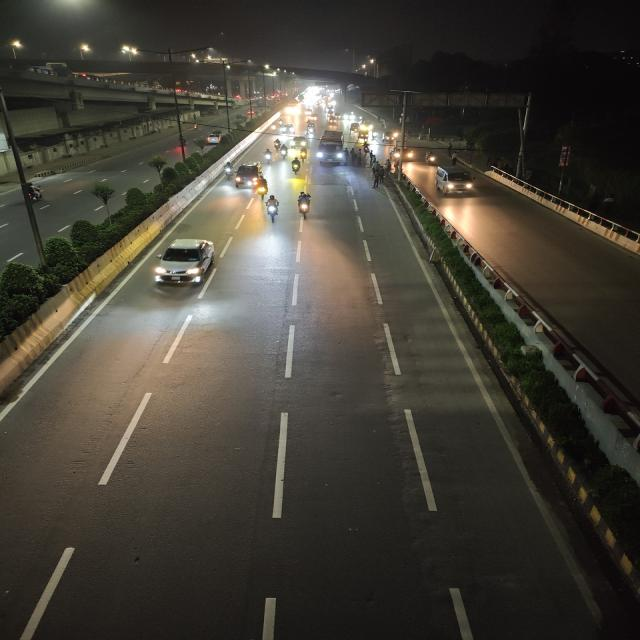bus: (315, 130, 349, 168)
car: (148, 235, 221, 297), (432, 164, 477, 198), (236, 162, 263, 188), (390, 146, 416, 162), (290, 134, 309, 150), (282, 124, 296, 134)
cng: (304, 121, 317, 135), (327, 117, 339, 128), (350, 122, 360, 134)
motorcycle: (15, 178, 48, 206), (260, 192, 282, 224), (293, 191, 316, 220), (422, 150, 438, 167), (290, 157, 303, 176), (262, 148, 277, 164), (276, 140, 288, 158), (223, 162, 235, 180), (273, 137, 286, 153), (296, 146, 308, 158)
pedestrian: (369, 162, 384, 185), (367, 146, 379, 162), (447, 151, 458, 165), (348, 148, 357, 164), (357, 147, 362, 165)
